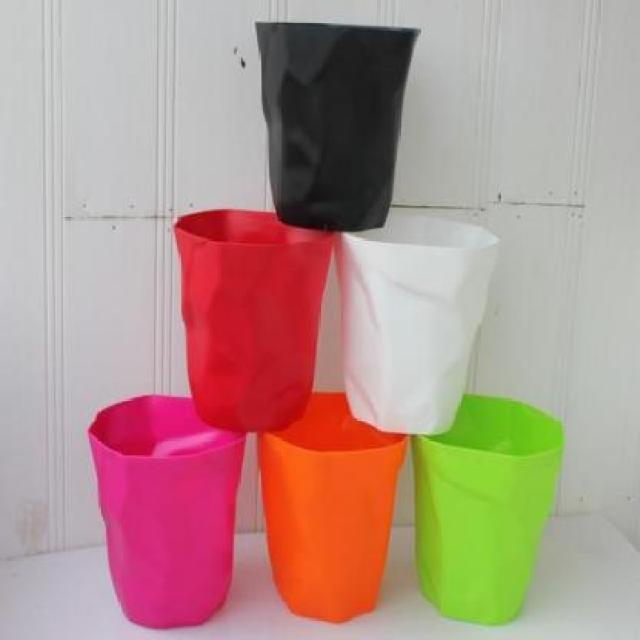dustbin: (83, 388, 252, 632), (170, 205, 338, 437), (337, 208, 503, 438), (409, 391, 568, 628), (257, 386, 412, 628), (251, 15, 424, 231)
